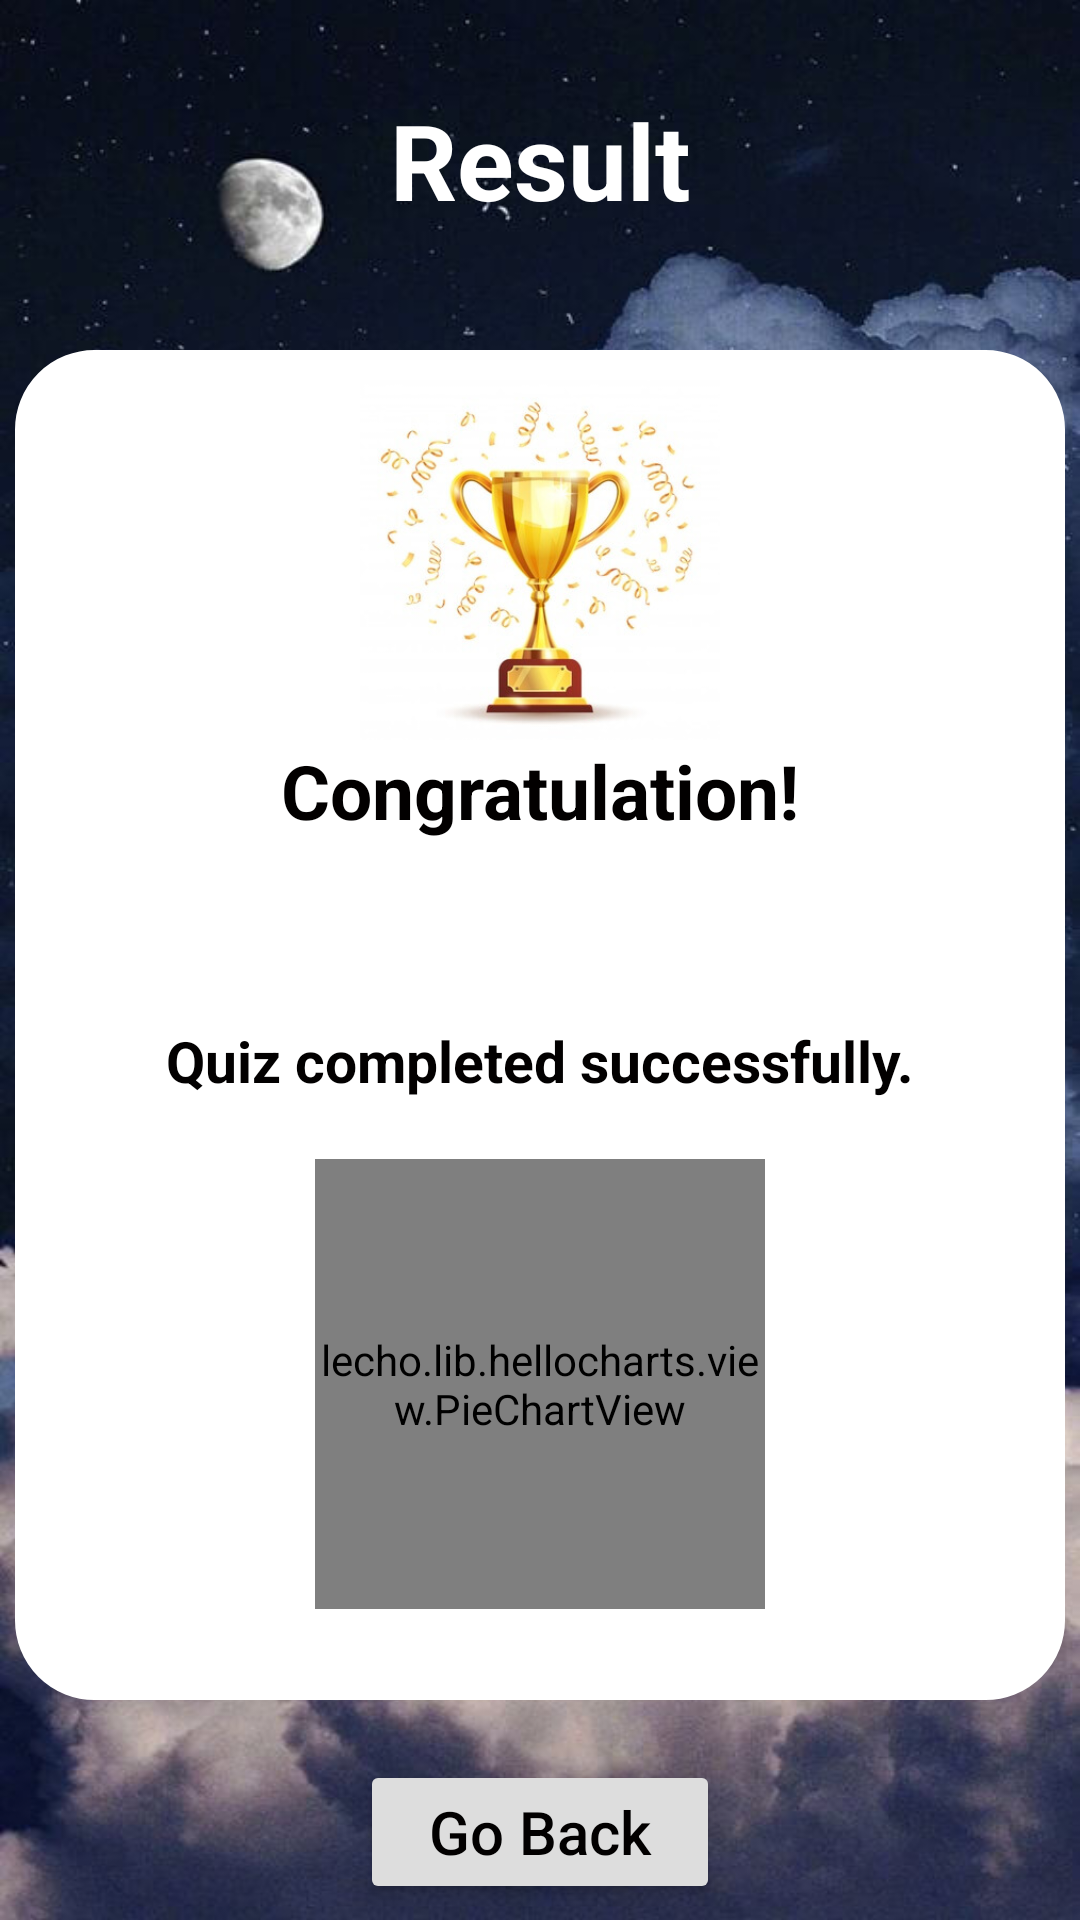

Screen size 1080x1920. Icon name, then its center in pixels as (x,y):
goldencup: (537,562)
